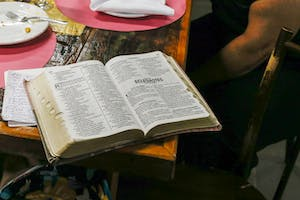book: (21, 50, 224, 165)
